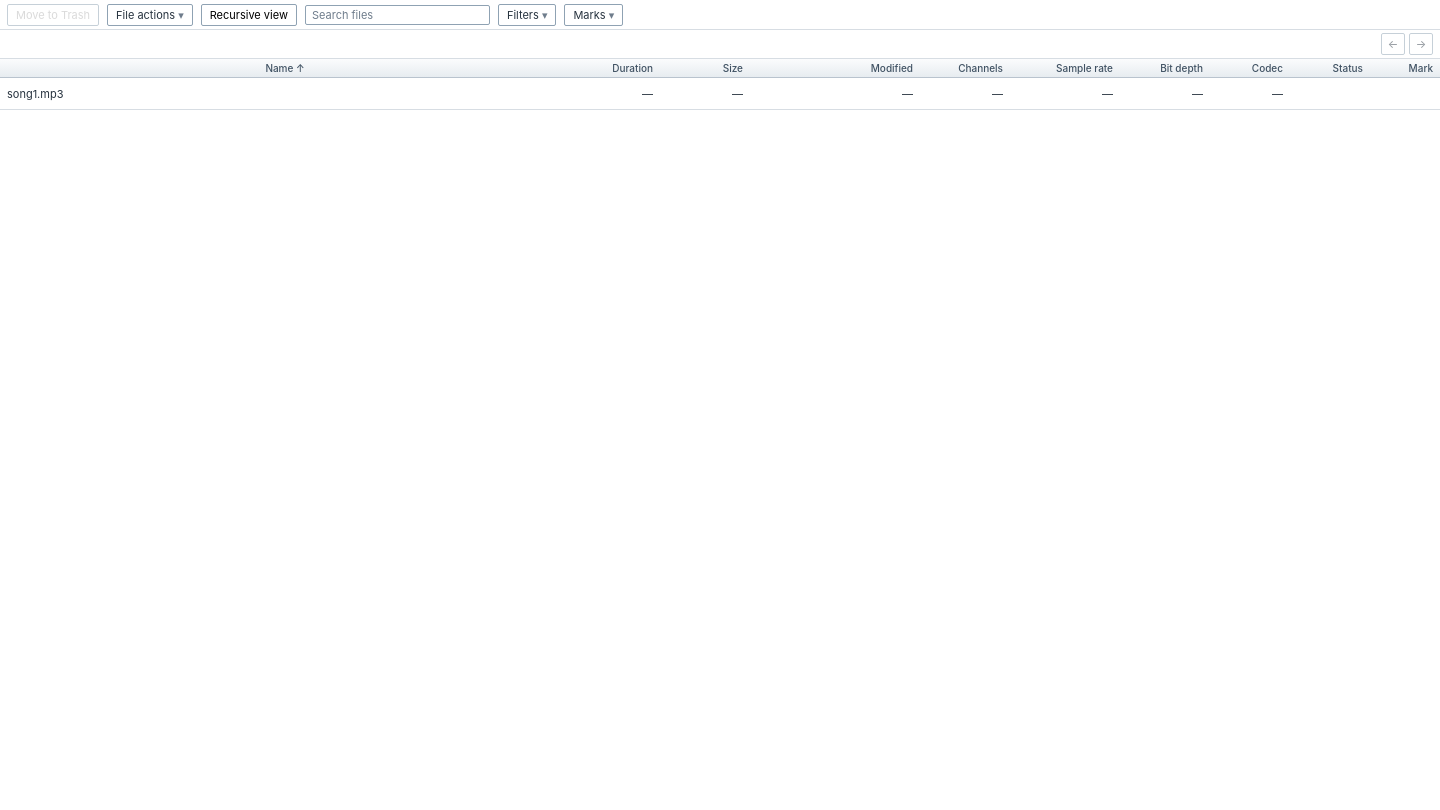
Test: FileList — multiple selection › clears the selection when the last selected row is removed
Click the row "song1.mp3 — — — — — — —" at (720,94), box x1=0 y1=78 x2=1439 y2=110
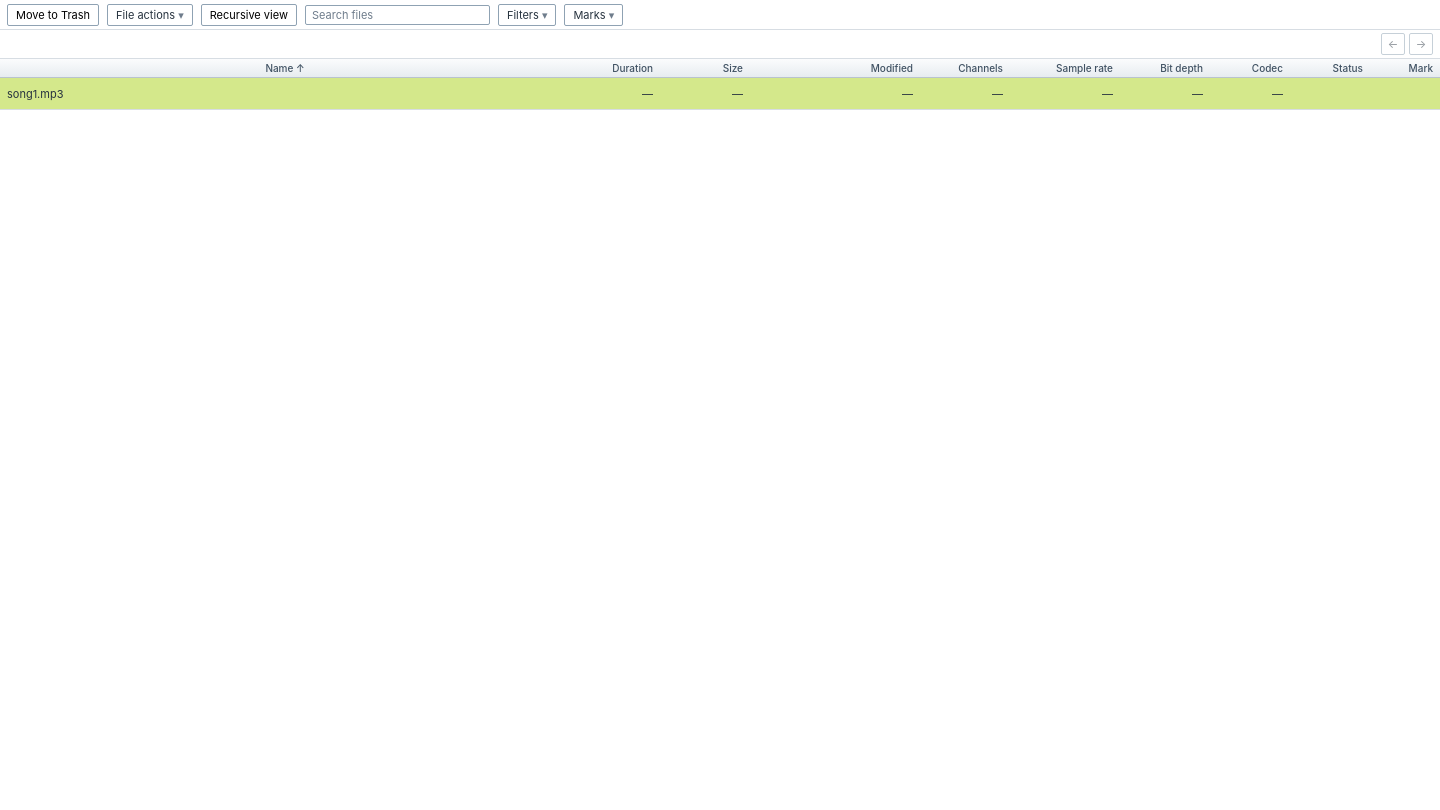
Click the button "Move to Trash" at (53,14), box x1=7 y1=4 x2=99 y2=26
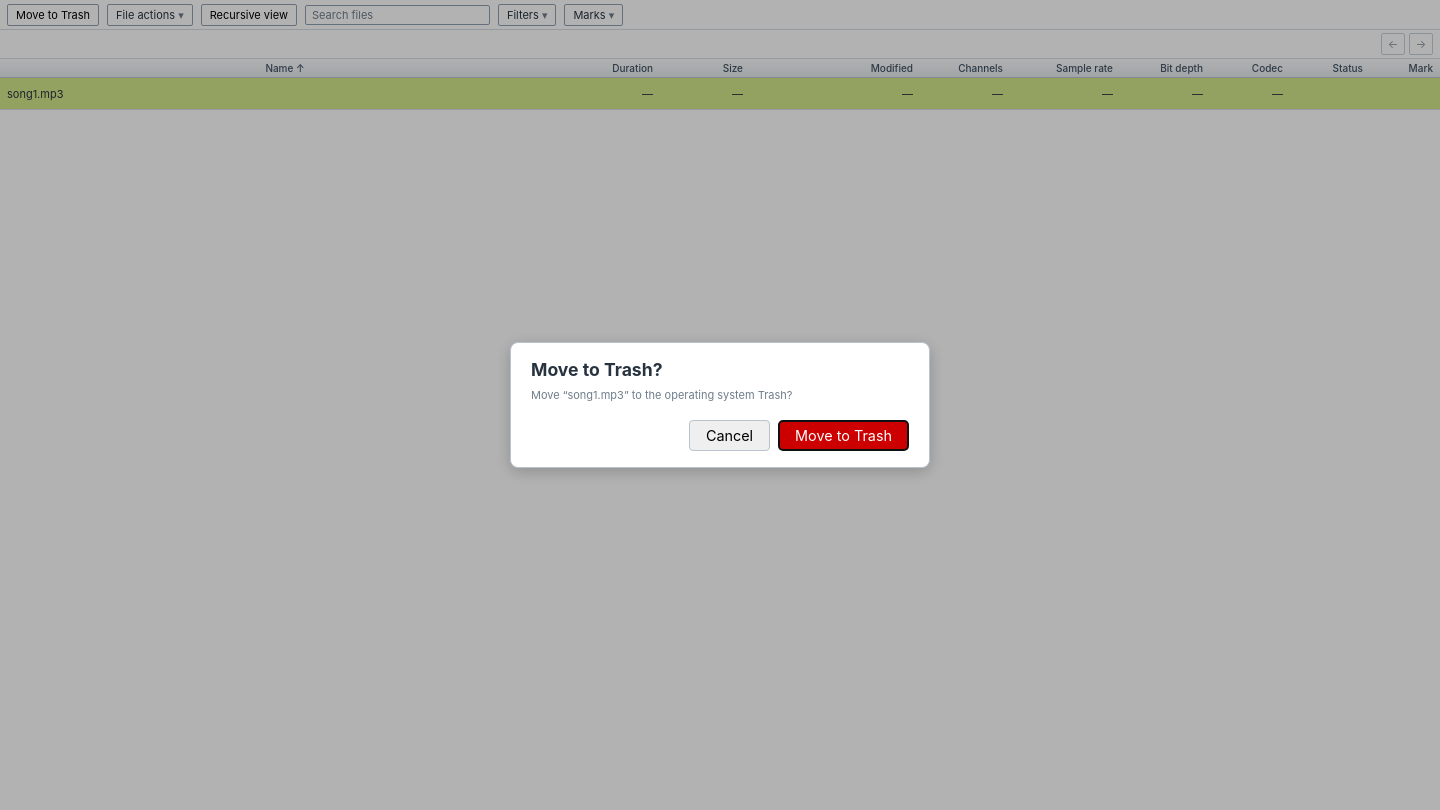
Click the button with class "confirm-dialog-button--confirm" at (844,435), box x1=778 y1=420 x2=909 y2=451
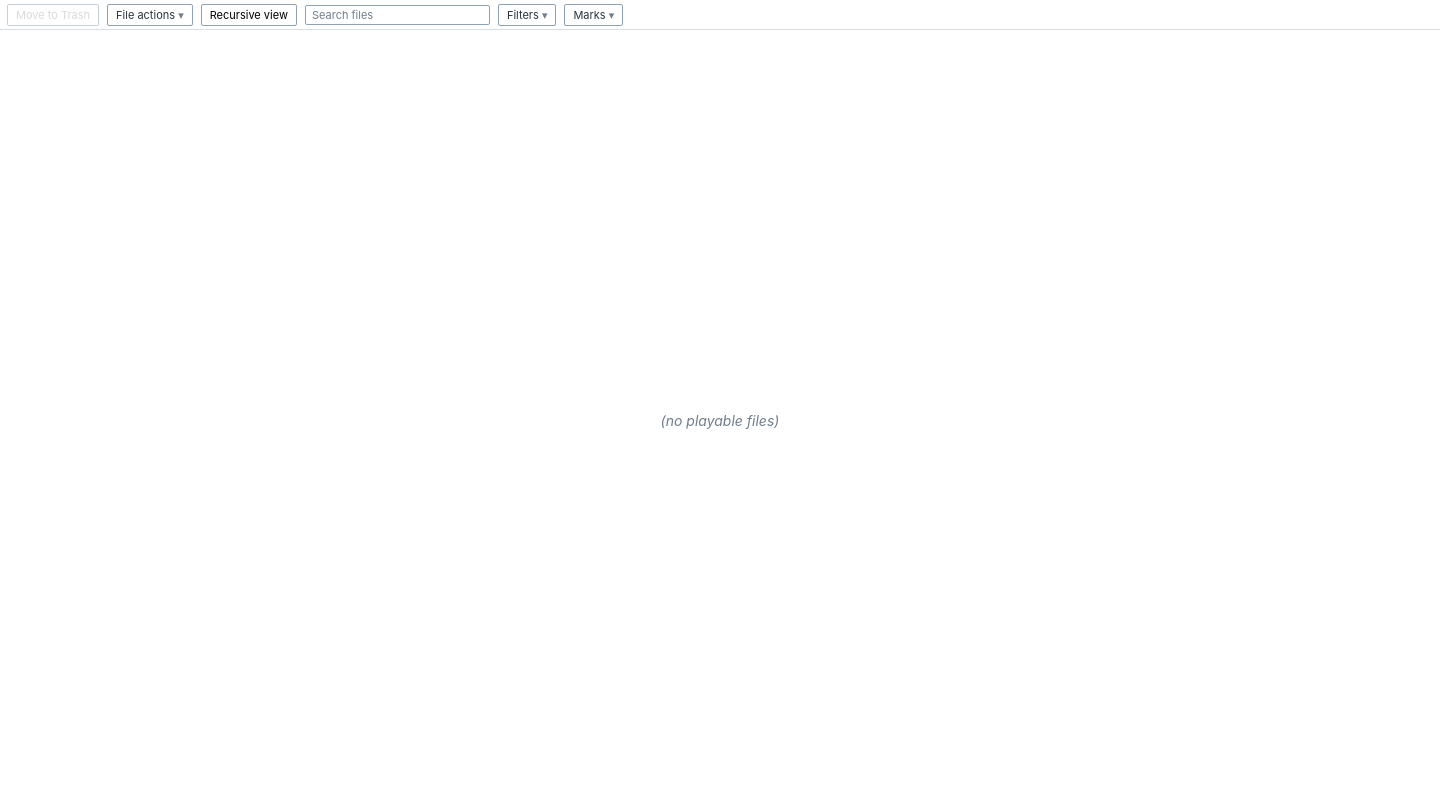
Expected: the text "song1.mp3" is gone
Expected: the button "Move to Trash" is disabled, x1=7 y1=4 x2=99 y2=26
